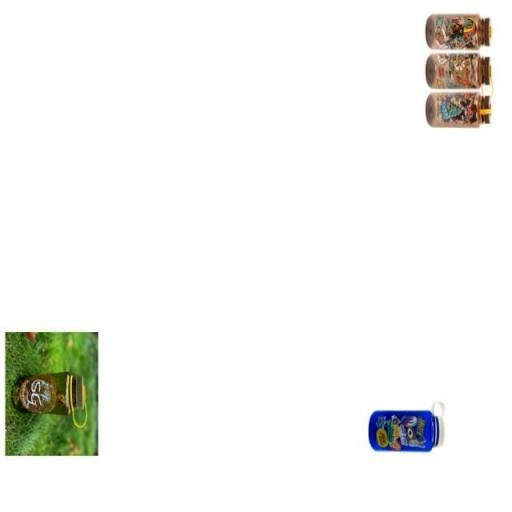bottle: (10, 370, 91, 431), (368, 399, 446, 452), (424, 50, 494, 94), (424, 10, 494, 54), (420, 91, 495, 130)
